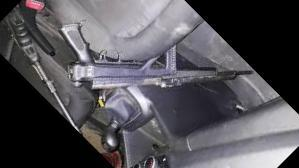larga: (59, 23, 254, 91)
